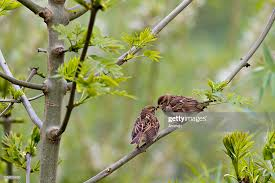hsparrow: (126, 105, 166, 149), (153, 95, 217, 118)
